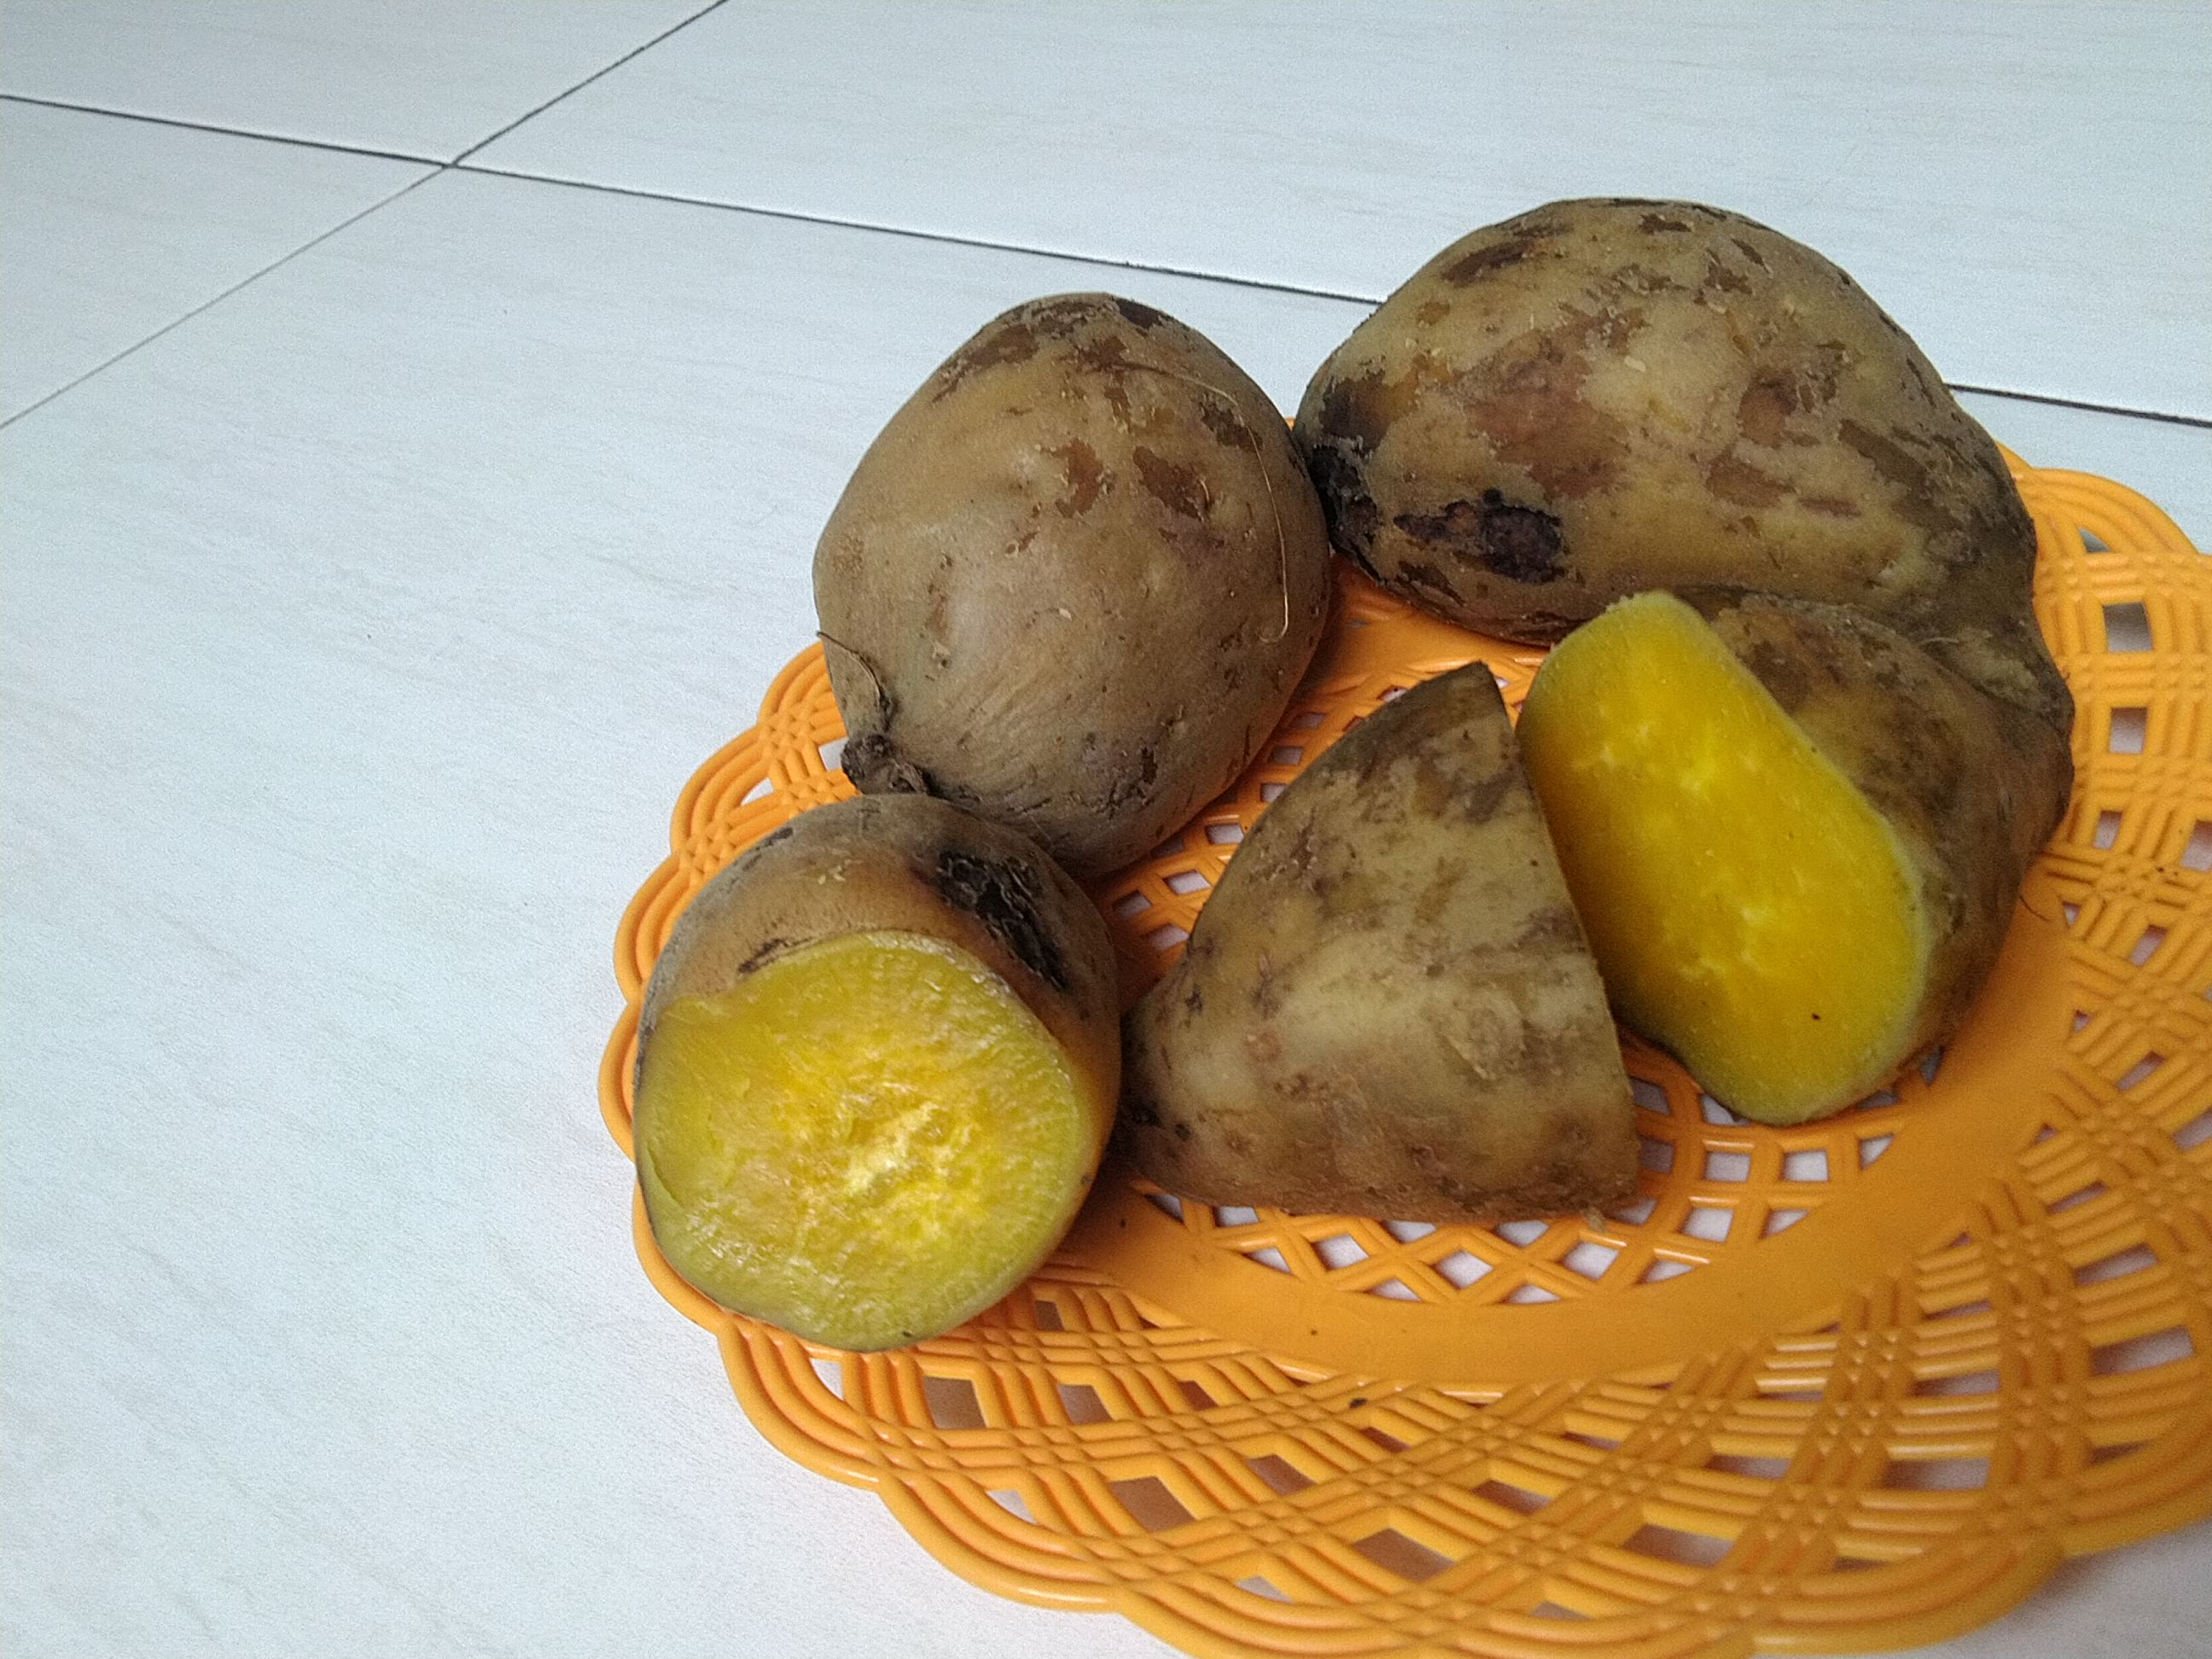ubi kuning: (1129, 582, 2163, 1232), (1292, 190, 2066, 678), (799, 268, 1346, 875), (1519, 580, 2090, 1136), (596, 786, 1139, 1359), (1123, 655, 1623, 1249)
